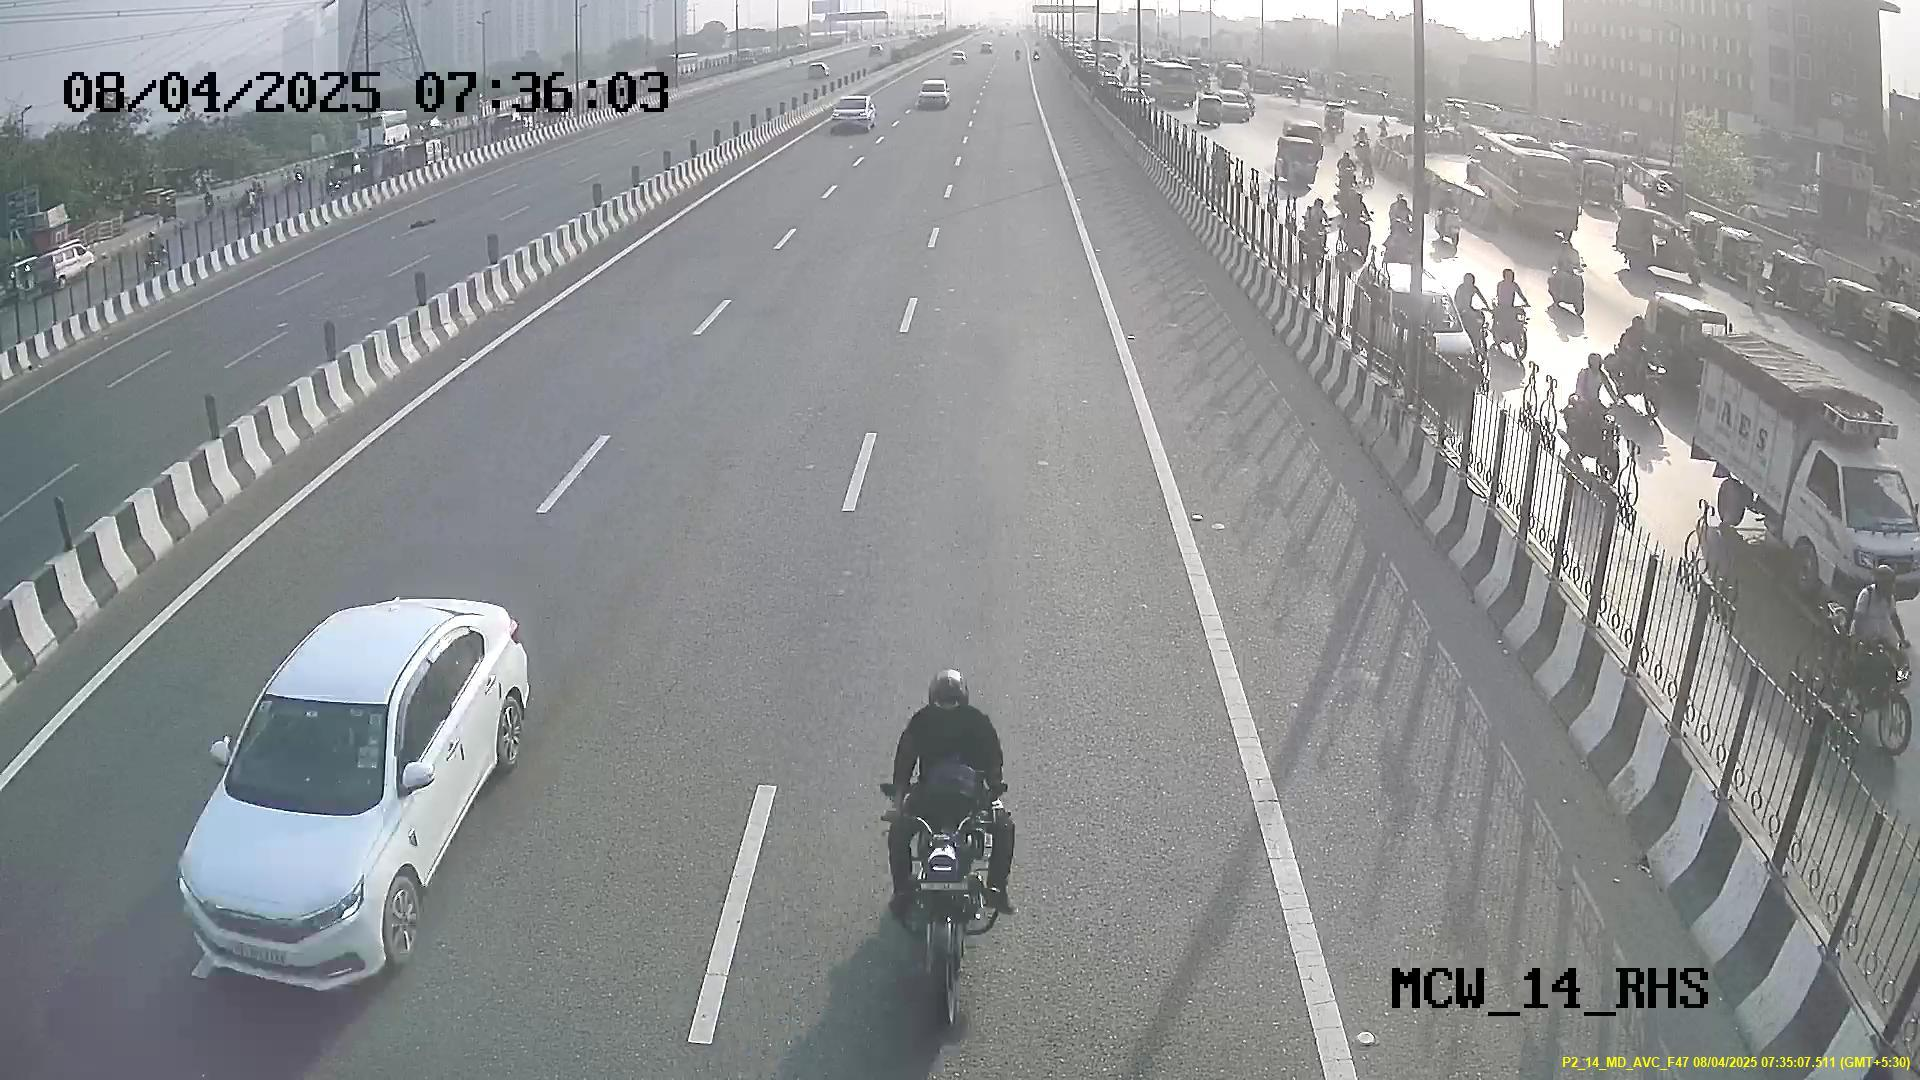bike: (861, 655, 1038, 1033)
car: (178, 667, 452, 997)
